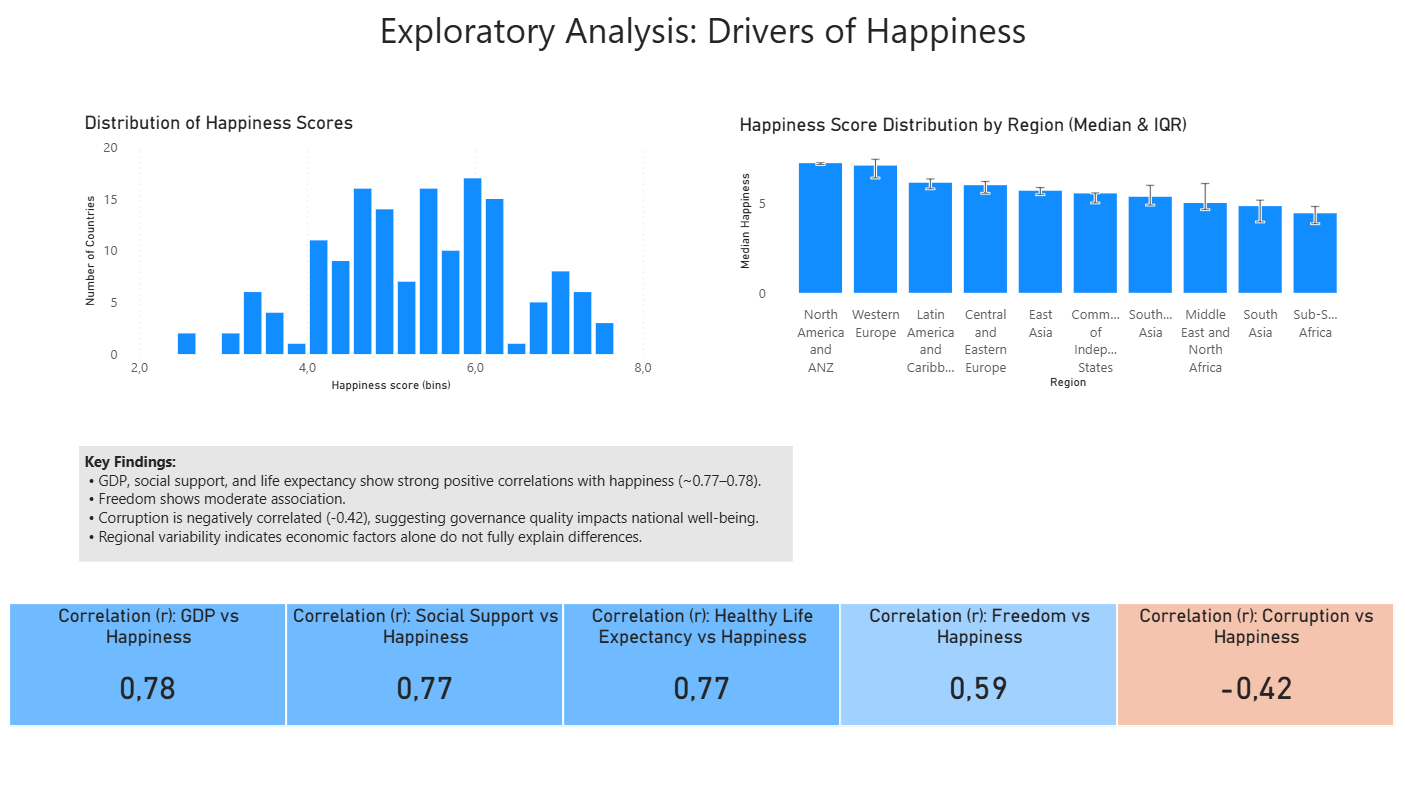

The dashboard page shown, as its layout file describes it:
{"tool":"powerbi","page":{"name":"Page 2","canvas":[1280,720],"ordinal":1},"visuals":[{"type":"textbox","box":[0,0,1280,72],"z":0},{"type":"card","title":"Correlation (r): GDP vs Happiness","fields":{"Values":["happiness.Corr_GDPlog_Happiness"]},"box":[10,416.4,251.8,111.8],"z":1000},{"type":"card","title":"Correlation (r): Freedom vs Happiness","fields":{"Values":["happiness.Corr_Freedom_Happiness"]},"box":[765.5,416.4,251.8,111.8],"z":2000},{"type":"card","title":"Correlation (r): Social Support vs Happiness","fields":{"Values":["happiness.Corr_SocialSupport_Happiness"]},"box":[261.8,416.4,251.8,111.8],"z":3000},{"type":"card","title":"Correlation (r): Healthy Life Expectancy vs Happiness","fields":{"Values":["happiness.Corr_HealthyLife_Happiness"]},"box":[513.6,416.4,251.8,111.8],"z":4000},{"type":"card","title":"Correlation (r): Corruption vs Happiness","fields":{"Values":["happiness.Corr_Corruption_Happiness"]},"box":[1017.3,416.4,251.8,111.8],"z":5000},{"type":"clusteredColumnChart","title":"Distribution of Happiness Scores","fields":{"Category":["happiness.Happiness score (bins)"],"Y":["CountNonNull(happiness.Country name)"]},"box":[73,102,527,260],"z":6000},{"type":"clusteredColumnChart","title":"Happiness Score Distribution by Region (Median & IQR)","fields":{"Category":["happiness.Region"],"Y":["happiness.Median Happiness"]},"box":[668.2,103.6,573.6,255.5],"z":7000},{"type":"textbox","box":[72.7,574.5,649.1,104.5],"z":8000}]}

Visuals, with their boxes in screenshot pixels (x1, y1, x2, y2), scaled from the page's 1280x720 canvas onto the 1405x789 screenshot:
textbox: 0:0:1404:79
"Correlation (r): GDP vs Happiness" card: 11:456:287:579
"Correlation (r): Freedom vs Happiness" card: 840:456:1117:579
"Correlation (r): Social Support vs Happiness" card: 287:456:564:579
"Correlation (r): Healthy Life Expectancy vs Happiness" card: 564:456:840:579
"Correlation (r): Corruption vs Happiness" card: 1117:456:1393:579
"Distribution of Happiness Scores" clusteredColumnChart: 80:112:659:397
"Happiness Score Distribution by Region (Median & IQR)" clusteredColumnChart: 733:114:1363:394
textbox: 80:630:792:744
